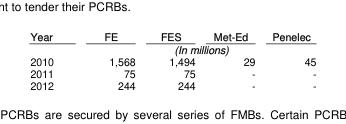table: (29, 28, 315, 92)
table column: (78, 28, 147, 92), (203, 28, 262, 92), (147, 28, 203, 92), (262, 28, 315, 92), (29, 28, 78, 92)
table column header: (29, 28, 315, 54)
table row: (29, 28, 315, 42), (29, 66, 315, 79), (29, 79, 315, 92), (29, 42, 315, 54), (29, 54, 315, 66)
table spanning cell: (78, 42, 315, 54), (29, 28, 78, 54)
